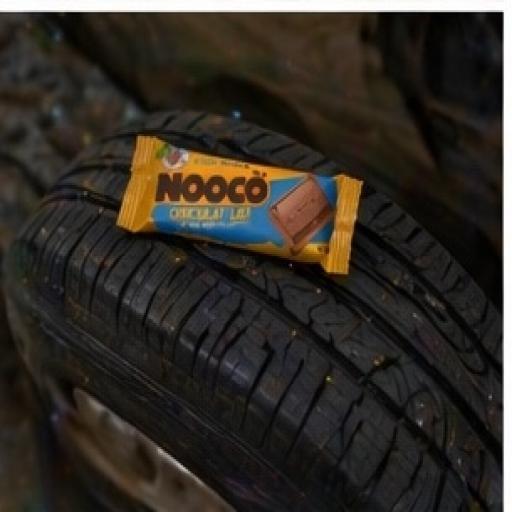nooco: (78, 82, 420, 340)
